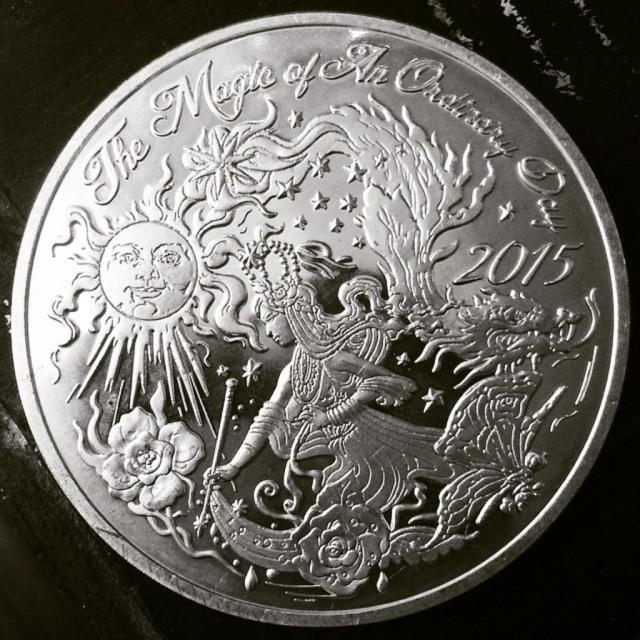Coin: (10, 11, 636, 633)
